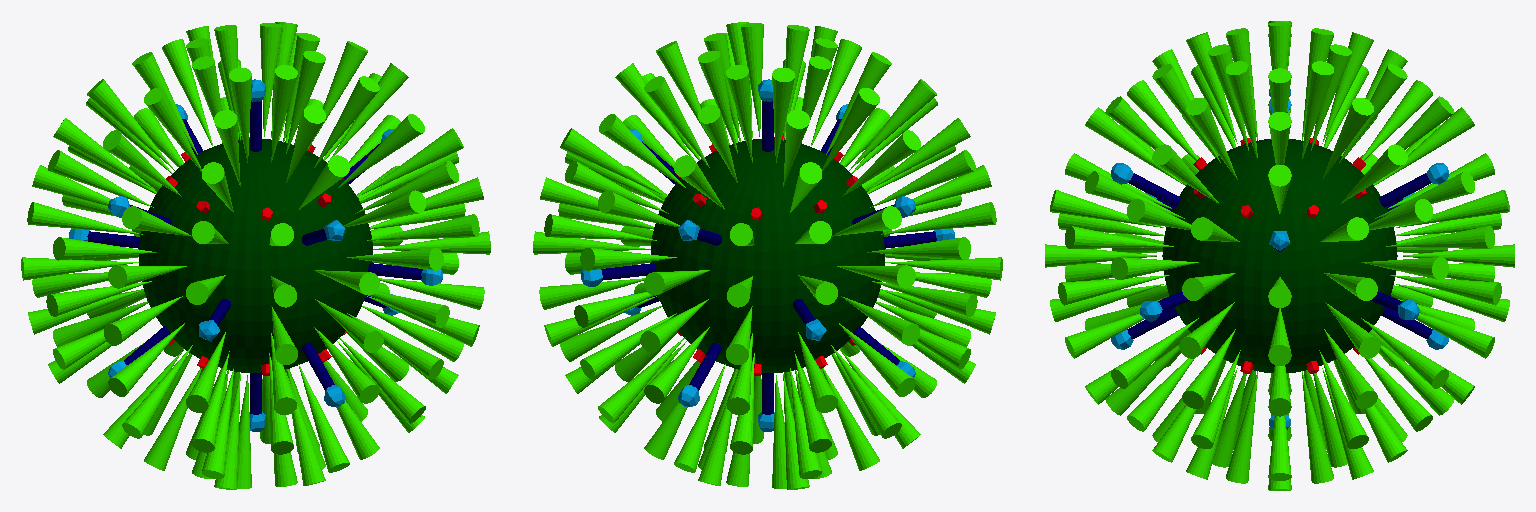
Rendered from Germ_Fighter_1.obj.
3 renders of one model, left to right at view 1: azimuth 30°, elevation 25°; view 2: azimuth 150°, elevation 25°; view 3: azimuth 270°, elevation 25°, orthographic.
Parts seen in each view (by area): view 1: polySurface3 polySurface2, polySurface49 polySurface1, polySurface96 polySurface115, polySurface96 polySurface132, polySurface2 polySurface12, polySurface1 polySurface69, polySurface96 polySurface121, polySurface1 polySurface58, polySurface96 polySurface116, polySurface95 polySurface173, polySurface95 polySurface156, polySurface96 polySurface114 (+28 smaller); view 2: polySurface3 polySurface2, polySurface49 polySurface1, polySurface96 polySurface110, polySurface96 polySurface131, polySurface2 polySurface45, polySurface1 polySurface52, polySurface96 polySurface102, polySurface1 polySurface63, polySurface96 polySurface111, polySurface95 polySurface145, polySurface95 polySurface166, polySurface96 polySurface109 (+28 smaller); view 3: polySurface3 polySurface2, polySurface49 polySurface1, polySurface2 polySurface25, polySurface2 polySurface26, polySurface96 polySurface104, polySurface96 polySurface119, polySurface95 polySurface156, polySurface95 polySurface166, polySurface96 polySurface105, polySurface96 polySurface118, polySurface96 polySurface101, polySurface96 polySurface126 (+28 smaller).
Boxes of the visible parts, box(x1,y1,x2,y2) form: polySurface3 polySurface2: box(139, 139, 372, 372); polySurface49 polySurface1: box(139, 139, 372, 372); polySurface96 polySurface115: box(27, 202, 142, 234); polySurface96 polySurface132: box(359, 128, 463, 195); polySurface2 polySurface12: box(87, 79, 174, 170); polySurface1 polySurface69: box(298, 364, 349, 472); polySurface96 polySurface121: box(338, 337, 425, 423); polySurface1 polySurface58: box(162, 39, 212, 145); polySurface96 polySurface116: box(48, 150, 153, 207); polySurface95 polySurface173: box(367, 214, 479, 240); polySurface95 polySurface156: box(53, 118, 157, 191); polySurface96 polySurface114: box(21, 257, 138, 280); polySurface3 polySurface2: box(651, 139, 884, 372); polySurface49 polySurface1: box(651, 139, 884, 372); polySurface96 polySurface110: box(881, 202, 996, 234); polySurface96 polySurface131: box(560, 128, 664, 195); polySurface2 polySurface45: box(849, 79, 936, 170); polySurface1 polySurface52: box(674, 364, 725, 472); polySurface96 polySurface102: box(598, 337, 685, 423); polySurface1 polySurface63: box(811, 39, 861, 145); polySurface96 polySurface111: box(870, 150, 975, 207); polySurface95 polySurface145: box(544, 214, 656, 240); polySurface95 polySurface166: box(866, 118, 970, 191); polySurface96 polySurface109: box(885, 257, 1002, 280); polySurface3 polySurface2: box(1164, 139, 1395, 372); polySurface49 polySurface1: box(1162, 139, 1397, 372); polySurface2 polySurface25: box(1226, 371, 1257, 483); polySurface2 polySurface26: box(1302, 371, 1333, 483); polySurface96 polySurface104: box(1390, 275, 1501, 305); polySurface96 polySurface119: box(1058, 275, 1169, 305); polySurface95 polySurface156: box(1362, 80, 1432, 160); polySurface95 polySurface166: box(1127, 80, 1197, 160); polySurface96 polySurface105: box(1386, 226, 1494, 248); polySurface96 polySurface118: box(1065, 226, 1173, 248); polySurface96 polySurface101: box(1376, 107, 1474, 184); polySurface96 polySurface126: box(1085, 107, 1183, 184).
Size of the model in its own units: 4 by 3.92 by 4.